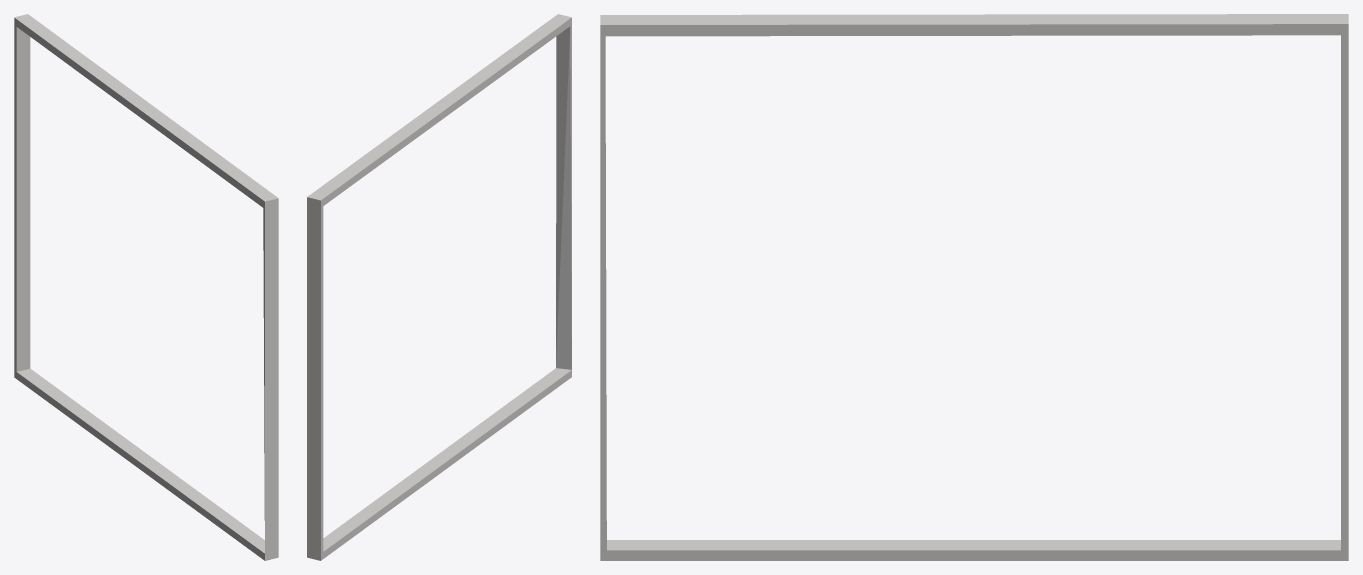
File: RendijasBase.obj
3 renders of one model, left to right at view 1: azimuth 30°, elevation 25°; view 2: azimuth 150°, elevation 25°; view 3: azimuth 270°, elevation 25°, orthographic. The views are drawn at different scales.
Parts seen in each view (by area): view 1: RendijasBase; view 2: RendijasBase; view 3: RendijasBase.
Part boxes in pixels (x1,y1,x2,y2): RendijasBase: (14, 14, 278, 560); RendijasBase: (307, 14, 571, 560); RendijasBase: (600, 14, 1348, 560).
Size of the model in its own units: 0.1174 by 2.92 by 3.69.
